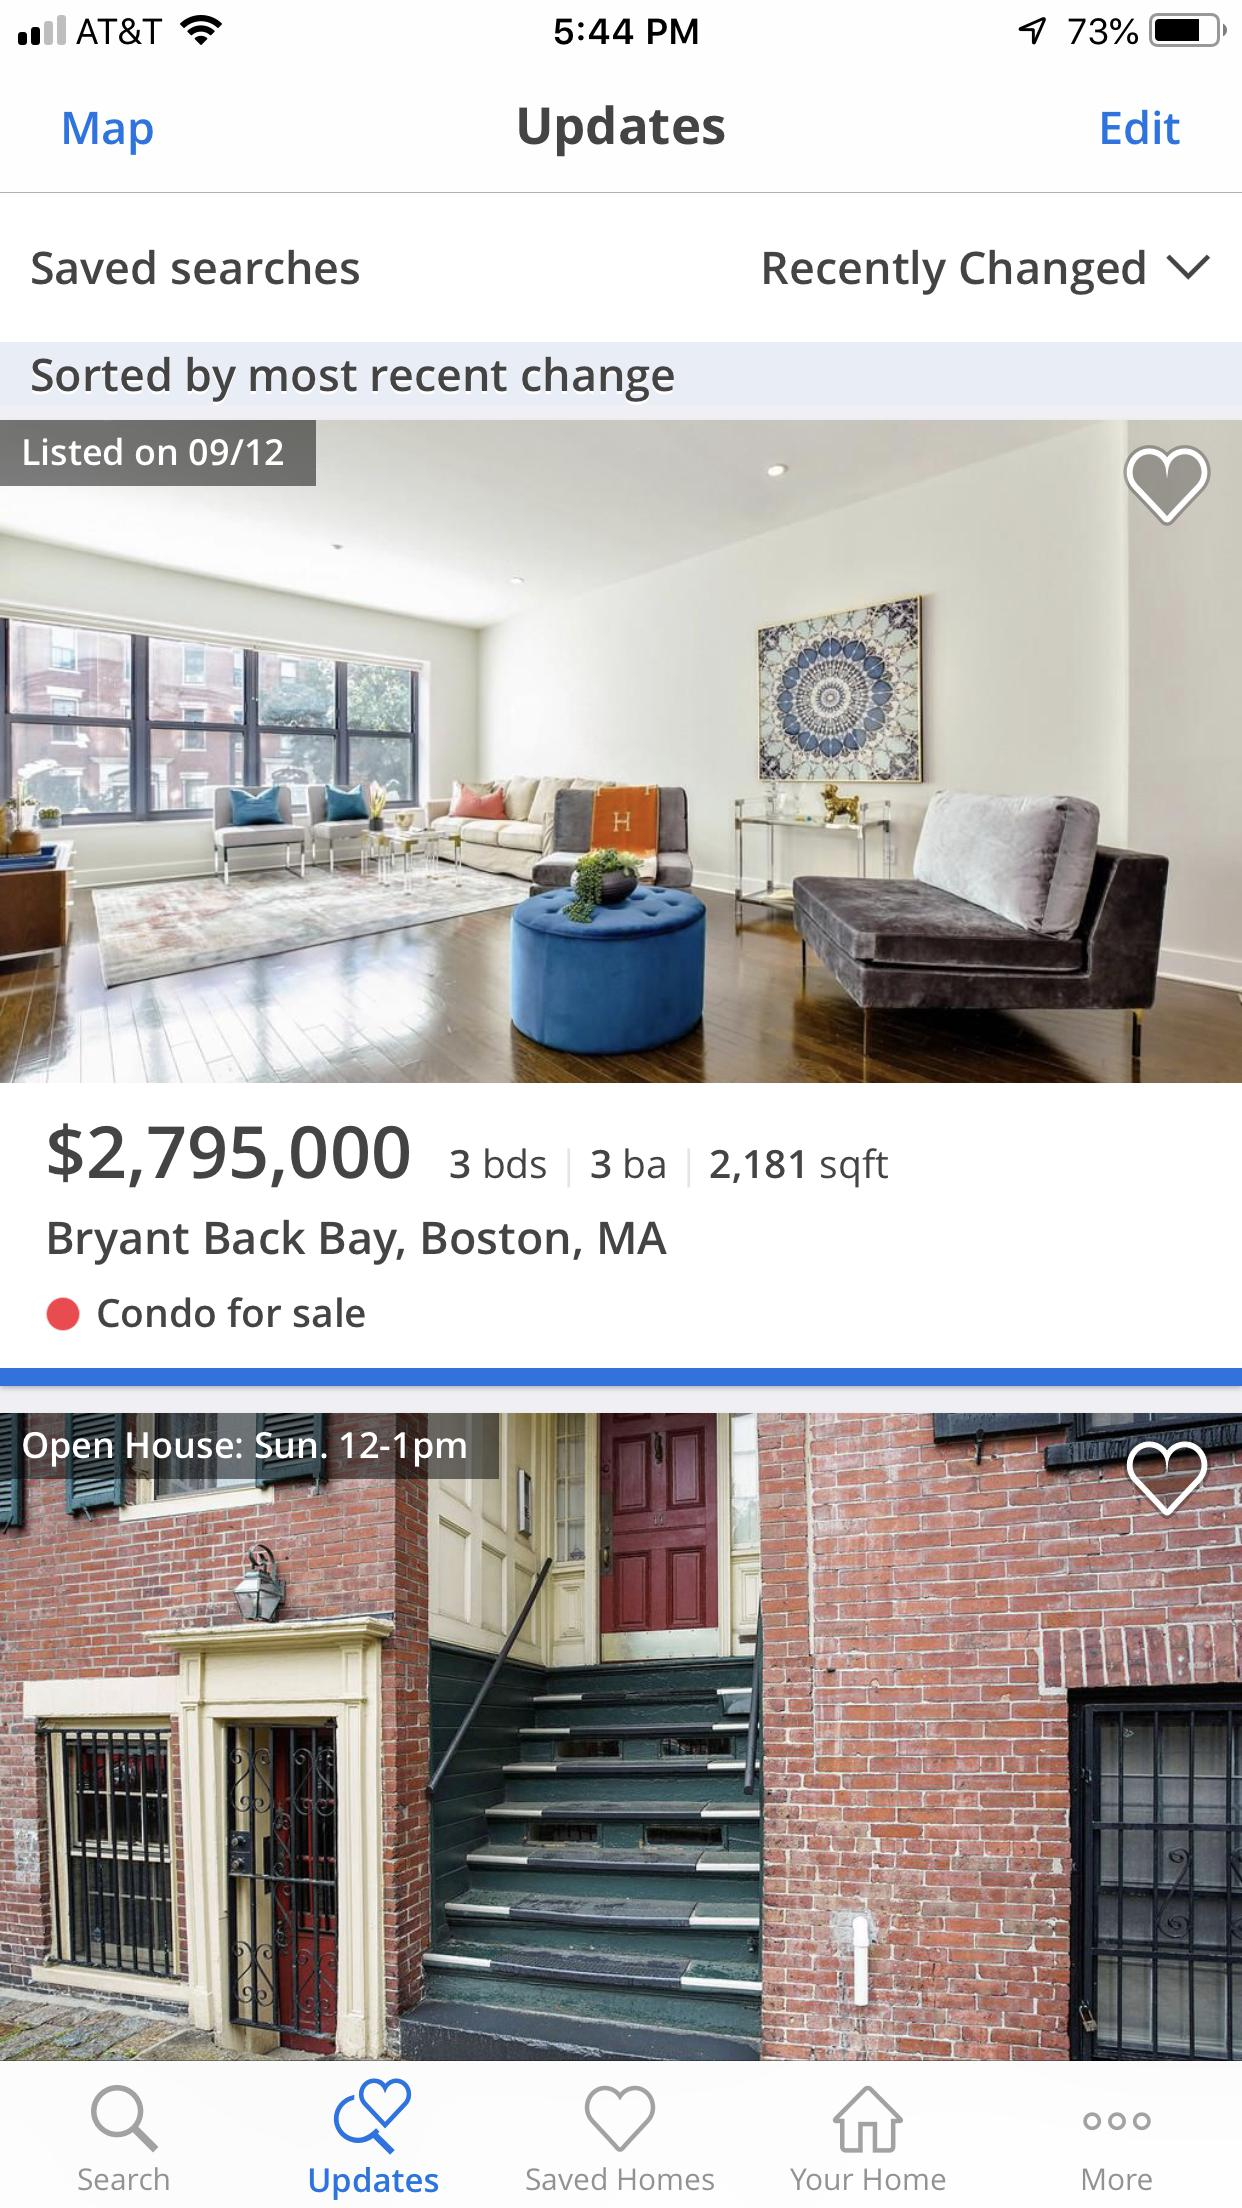Icon: (1124, 444, 1210, 528), (1122, 1441, 1209, 1516), (332, 2078, 412, 2156), (584, 2084, 657, 2153), (91, 2084, 162, 2153), (833, 2085, 905, 2153), (1083, 2109, 1153, 2131), (1165, 253, 1212, 282)
Image: (2, 422, 1242, 1083), (2, 1412, 1242, 2062)
Text: (30, 355, 675, 403), (49, 1219, 667, 1268), (49, 1122, 411, 1190), (764, 249, 1146, 297), (21, 1429, 466, 1466), (32, 249, 361, 287), (519, 105, 726, 159), (21, 435, 288, 470), (97, 1297, 367, 1328), (710, 1146, 890, 1189), (525, 2166, 716, 2191), (309, 2166, 440, 2200), (64, 111, 155, 158), (789, 2167, 946, 2193), (450, 1146, 549, 1181), (1101, 109, 1181, 147), (591, 1146, 667, 1181), (77, 2166, 171, 2191), (1081, 2166, 1153, 2191)
UpperTaskBar: (2, 2, 1242, 50)
